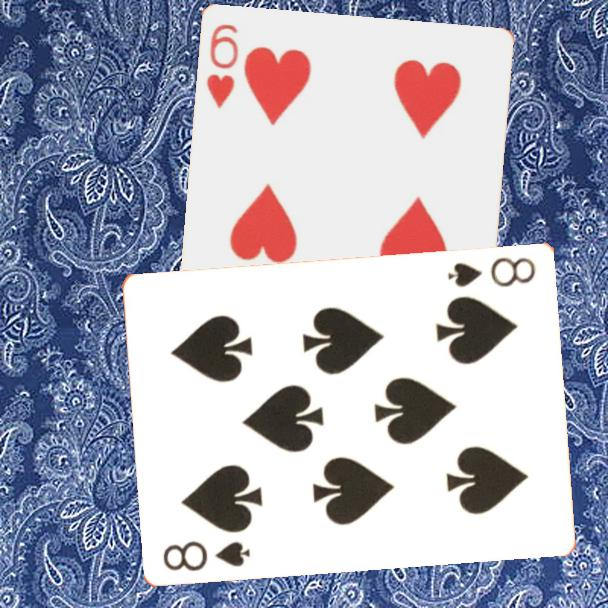h06: (204, 21, 242, 112)
s08: (159, 537, 254, 574), (444, 253, 539, 289)
